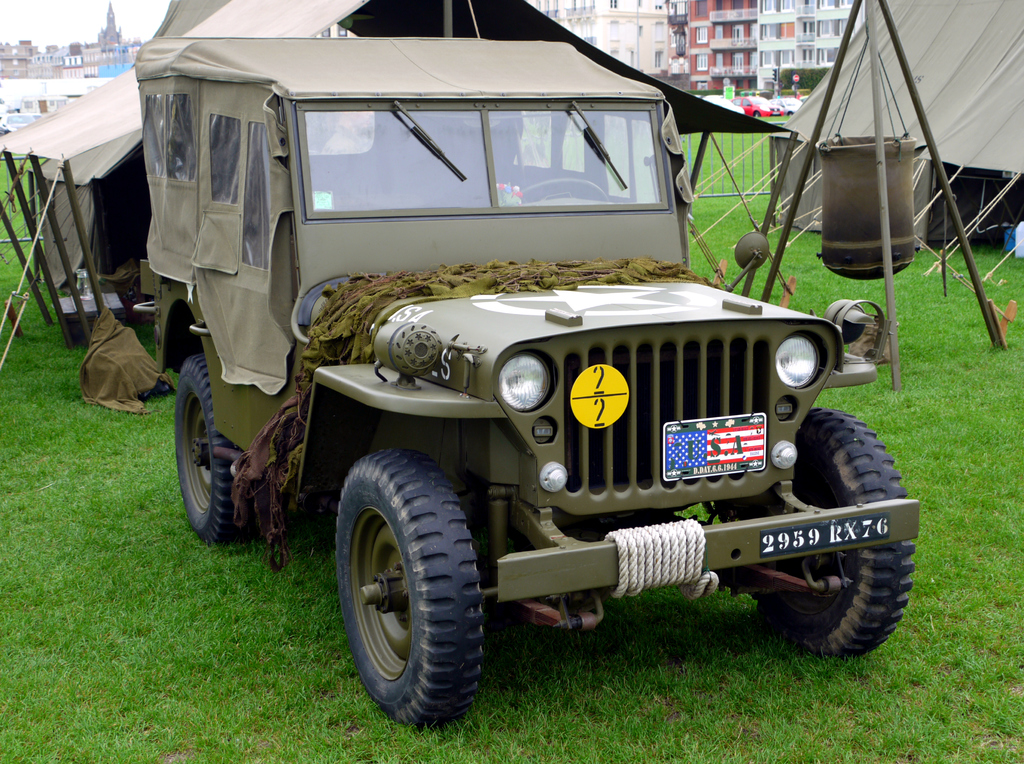Car: (731, 94, 785, 120)
